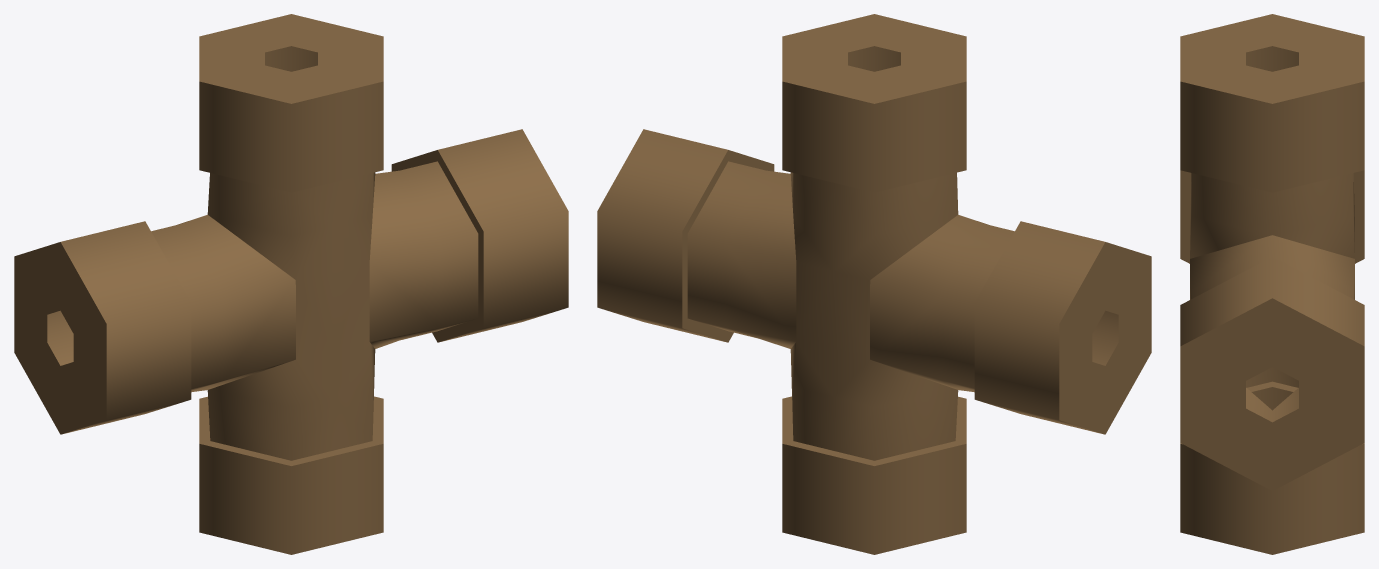
The model's file is WallDecoG.fbx.
3 renders of one model, left to right at view 1: azimuth 30°, elevation 25°; view 2: azimuth 150°, elevation 25°; view 3: azimuth 270°, elevation 25°, orthographic.
Visible parts, largest first — view 1: WallDecoG; view 2: WallDecoG; view 3: WallDecoG.
Boxes of the visible parts, x1=… form: WallDecoG: x1=14, y1=14, x2=568, y2=554; WallDecoG: x1=597, y1=14, x2=1151, y2=554; WallDecoG: x1=1180, y1=14, x2=1364, y2=554.
Size of the model in its own units: 1.06 by 0.9868 by 0.3656.
